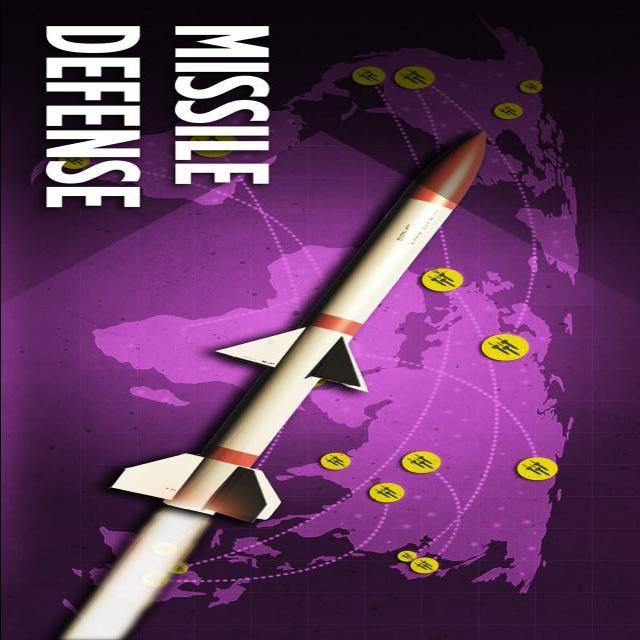Missile: (100, 129, 503, 520)
